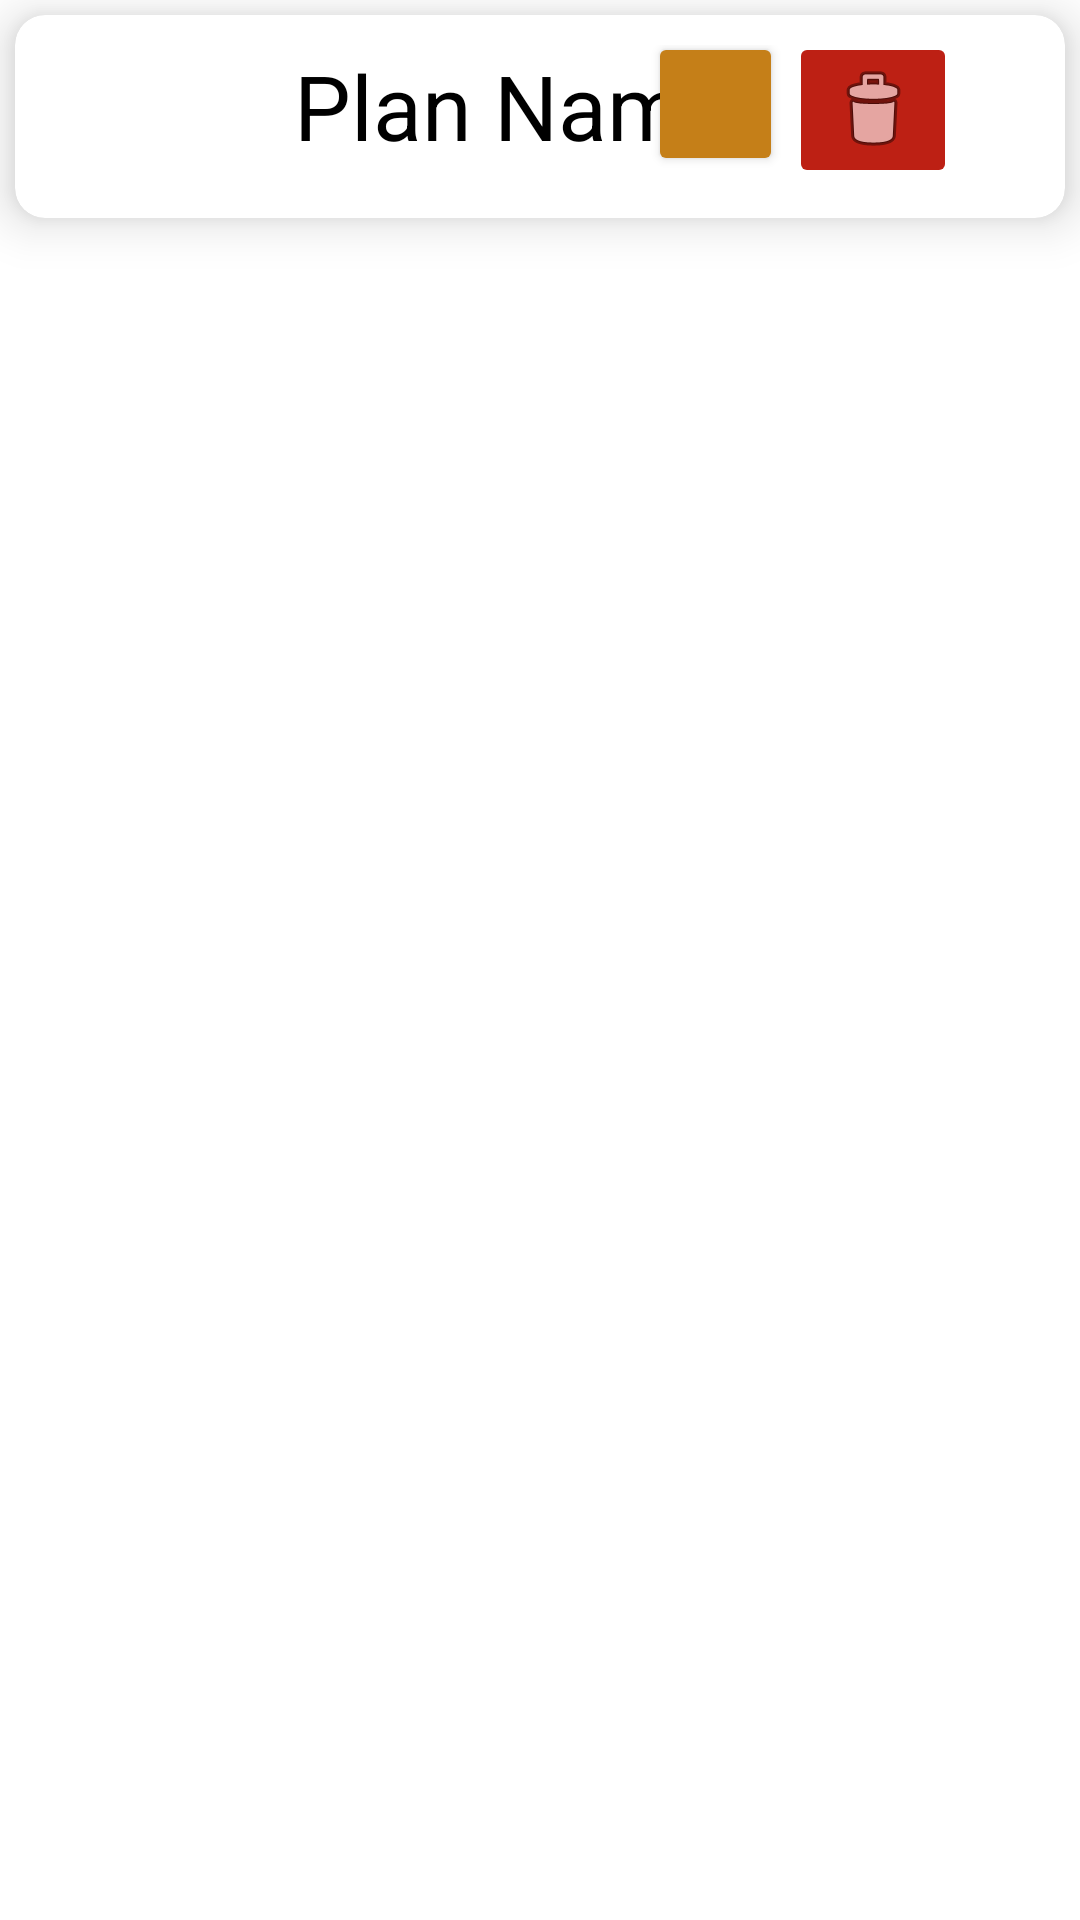

Icon click points for this 1080px×1920px phone screenshot, format point (x, y):
delete: point (873, 110)
